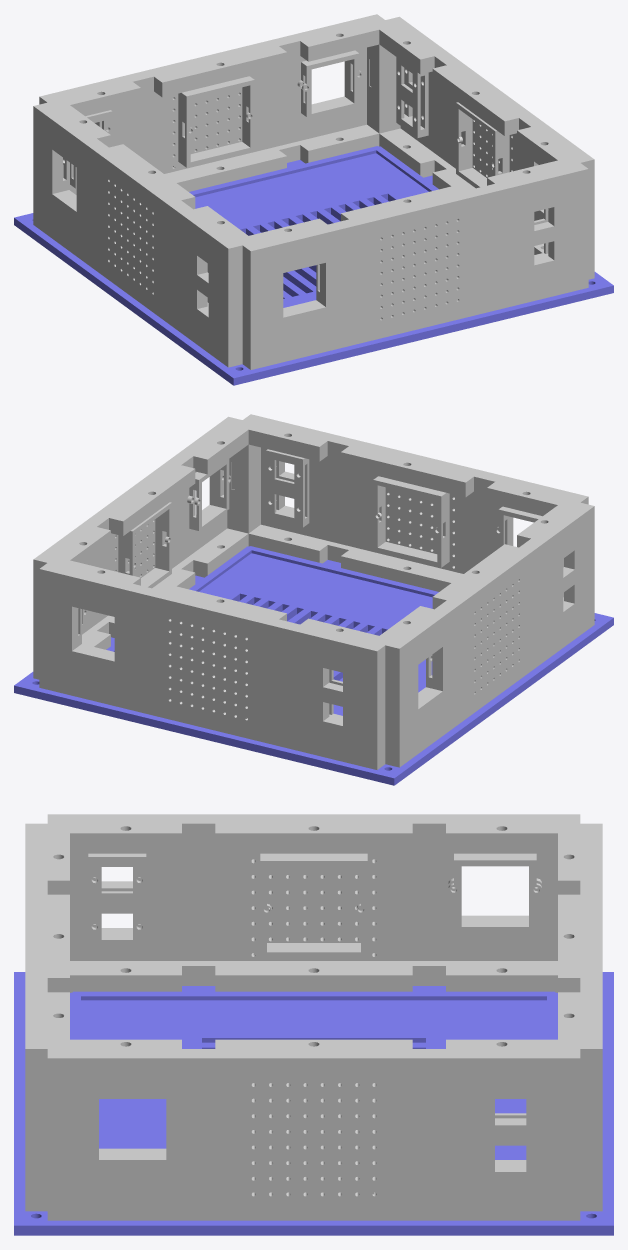
Rendered from Modelo_Carcasa_Base.glb.
3 views of the same model, one above another, from view 1: azimuth 30°, elevation 25°; view 2: azimuth 150°, elevation 25°; view 3: azimuth 270°, elevation 25° (orthographic). The views are drawn at different scales.
Visible parts, largest first — view 1: Sólido1 (×5); view 2: Sólido1 (×5); view 3: Sólido1 (×5).
Part boxes in pixels (x1,y1,x2,y2): Sólido1 (×5): [14, 14, 613, 385]; Sólido1 (×5): [14, 414, 613, 785]; Sólido1 (×5): [14, 814, 613, 1235].
Size of the model in its own units: 0.268 by 0.09 by 0.268.
